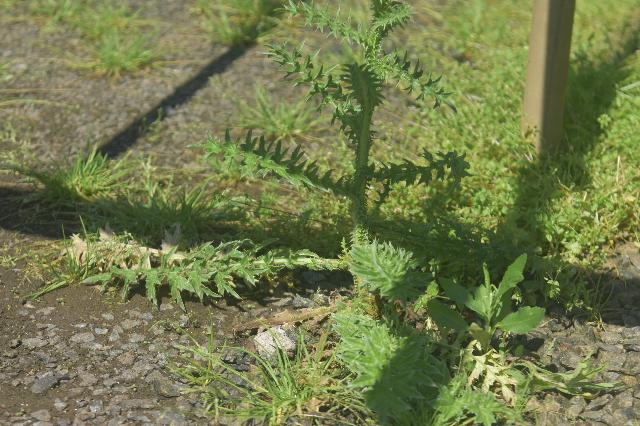MalezaMontesDelPlata: (269, 0, 477, 235), (321, 308, 516, 426), (429, 12, 525, 245), (177, 124, 373, 235), (74, 243, 365, 313), (171, 332, 363, 426), (434, 252, 555, 383), (521, 157, 640, 269), (27, 0, 160, 76), (575, 23, 640, 170), (3, 148, 145, 214), (342, 237, 435, 320)
